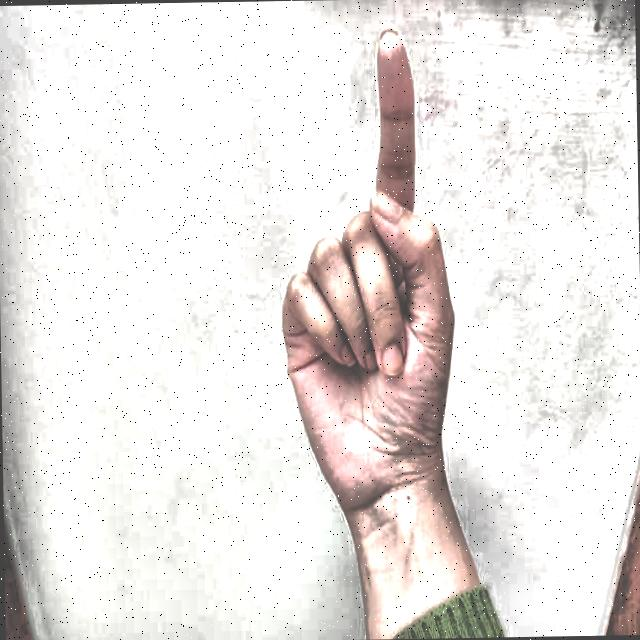U: (264, 1, 470, 524)
